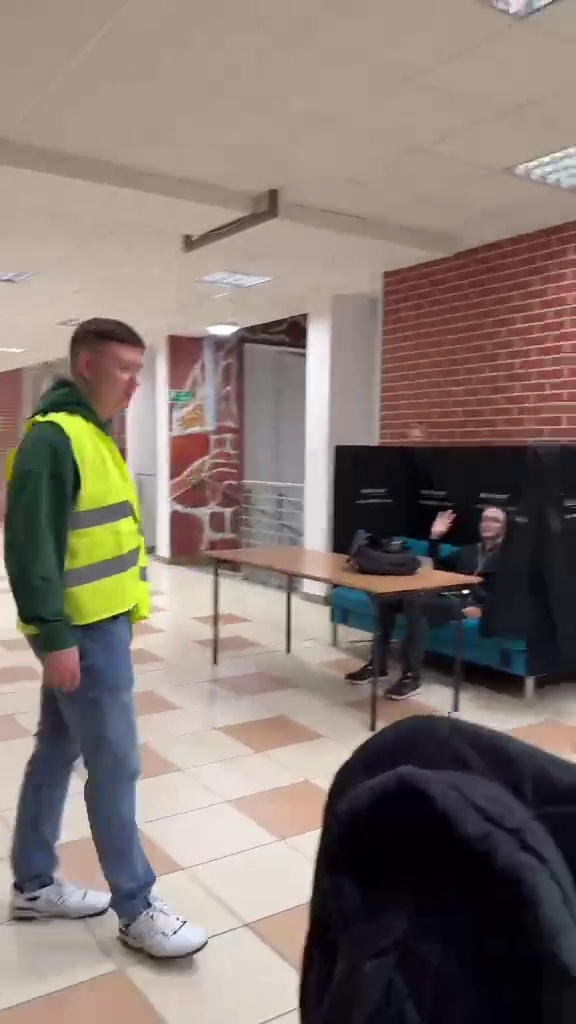no vest: (390, 493, 514, 676)
vest: (2, 310, 204, 962)
